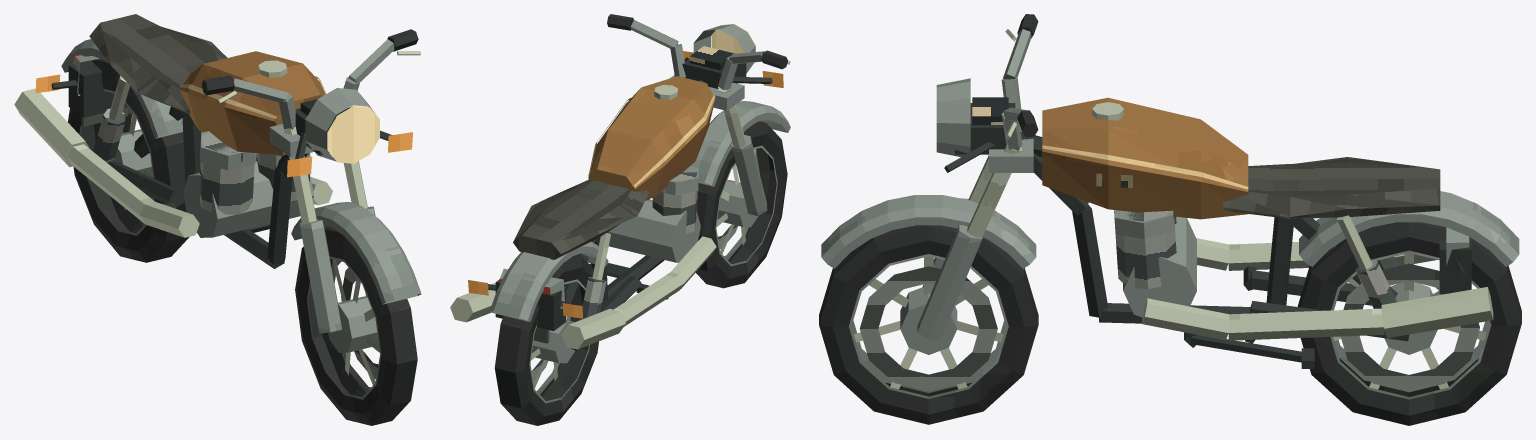
Rendered from marrowfield-1974.glb.
3 renders of one model, left to right at view 1: azimuth 30°, elevation 25°; view 2: azimuth 150°, elevation 25°; view 3: azimuth 270°, elevation 25°, orthographic. The views are drawn at different scales.
Parts seen in each view (by area): view 1: body, Tread, tyre shoulders and inner lips, Tread, tyre shoulders and inner lips.001, Front valanced or bobbed mudguard, Fork lower slider, Lamp lens, Stove enamel lamp bucket, Brake drum or axle hub, Brake drum or axle hub.001, Fork leg, Fork crown, Swept handlebar.001 (+10 smaller); view 2: body, Tread, tyre shoulders and inner lips.001, Tread, tyre shoulders and inner lips, Front valanced or bobbed mudguard, Fork lower slider, Brake drum or axle hub, Brake drum or axle hub.001, Stove enamel lamp bucket, Lamp mounting yoke, Pixel instrument faces, Fork crown, Fork leg (+10 smaller); view 3: body, Tread, tyre shoulders and inner lips, Tread, tyre shoulders and inner lips.001, Front valanced or bobbed mudguard, Disc brake rotor, Disc brake rotor.001, Fork lower slider.001, Stove enamel lamp bucket, Brake drum or axle hub, Rim lip.001, Fork leg.001, Brake drum or axle hub.001 (+7 smaller).
Part boxes in pixels (bbox=[...]): body: bbox=[14, 14, 332, 268]; Tread, tyre shoulders and inner lips: bbox=[295, 226, 417, 425]; Tread, tyre shoulders and inner lips.001: bbox=[68, 58, 189, 262]; Front valanced or bobbed mudguard: bbox=[291, 202, 421, 304]; Fork lower slider: bbox=[300, 219, 341, 333]; Lamp lens: bbox=[327, 106, 379, 163]; Stove enamel lamp bucket: bbox=[305, 88, 375, 161]; Brake drum or axle hub: bbox=[328, 296, 378, 352]; Brake drum or axle hub.001: bbox=[114, 129, 152, 175]; Fork leg: bbox=[283, 127, 316, 223]; Fork crown: bbox=[269, 124, 313, 157]; Swept handlebar.001: bbox=[348, 39, 394, 82]; body: bbox=[450, 76, 716, 350]; Tread, tyre shoulders and inner lips.001: bbox=[494, 255, 602, 425]; Tread, tyre shoulders and inner lips: bbox=[696, 121, 787, 288]; Front valanced or bobbed mudguard: bbox=[690, 101, 790, 186]; Fork lower slider: bbox=[731, 135, 767, 215]; Brake drum or axle hub: bbox=[717, 180, 758, 227]; Brake drum or axle hub.001: bbox=[532, 320, 574, 363]; Stove enamel lamp bucket: bbox=[693, 24, 755, 83]; Lamp mounting yoke: bbox=[682, 58, 746, 88]; Pixel instrument faces: bbox=[689, 46, 734, 70]; Fork crown: bbox=[669, 75, 744, 110]; Fork leg: bbox=[718, 86, 745, 148]; body: bbox=[1020, 97, 1519, 347]; Tread, tyre shoulders and inner lips: bbox=[819, 225, 1038, 424]; Tread, tyre shoulders and inner lips.001: bbox=[1297, 222, 1521, 425]; Front valanced or bobbed mudguard: bbox=[821, 195, 1036, 268]; Disc brake rotor: bbox=[859, 266, 997, 391]; Disc brake rotor.001: bbox=[1341, 263, 1479, 392]; Fork lower slider.001: bbox=[917, 225, 982, 340]; Stove enamel lamp bucket: bbox=[936, 78, 970, 156]; Brake drum or axle hub: bbox=[900, 287, 957, 354]; Rim lip.001: bbox=[848, 254, 1008, 398]; Fork leg.001: bbox=[967, 144, 1021, 237]; Brake drum or axle hub.001: bbox=[1384, 282, 1437, 354].
Bounding box in the file's own units: 0.7691 × 1.14 × 2.07.
5 materials, 5 textured.
